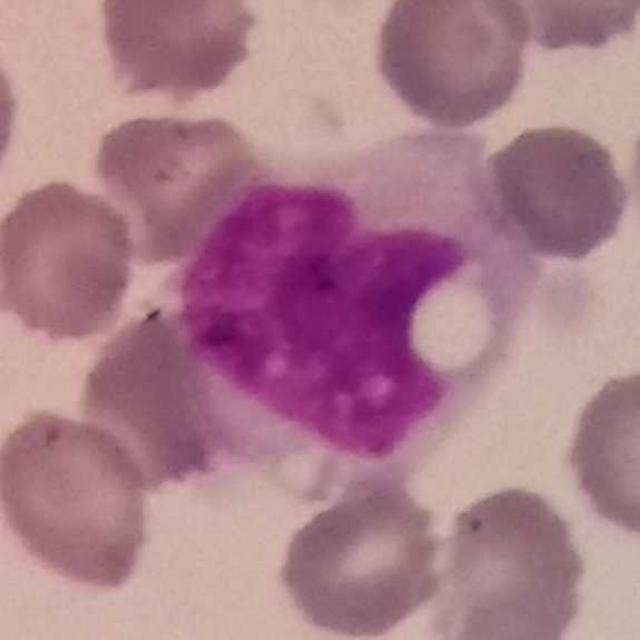Monocyte: (184, 133, 542, 501)
RBC: (270, 473, 452, 640), (0, 403, 158, 595), (86, 102, 265, 263), (421, 478, 594, 640), (86, 300, 218, 496), (0, 172, 140, 344), (480, 117, 634, 265), (368, 0, 535, 132), (90, 0, 266, 109), (557, 359, 640, 546), (474, 0, 640, 57), (0, 27, 26, 206)
